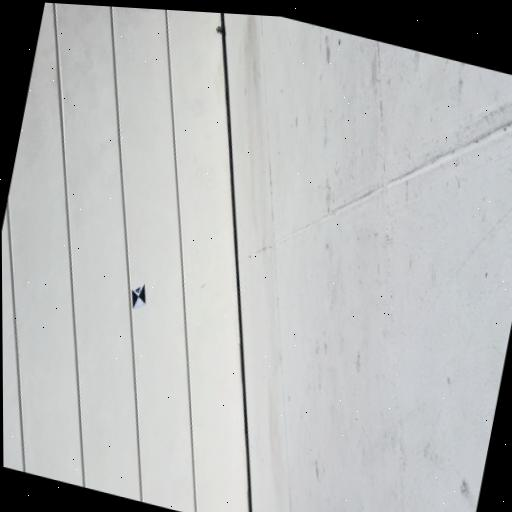target4: (132, 284, 146, 310)
